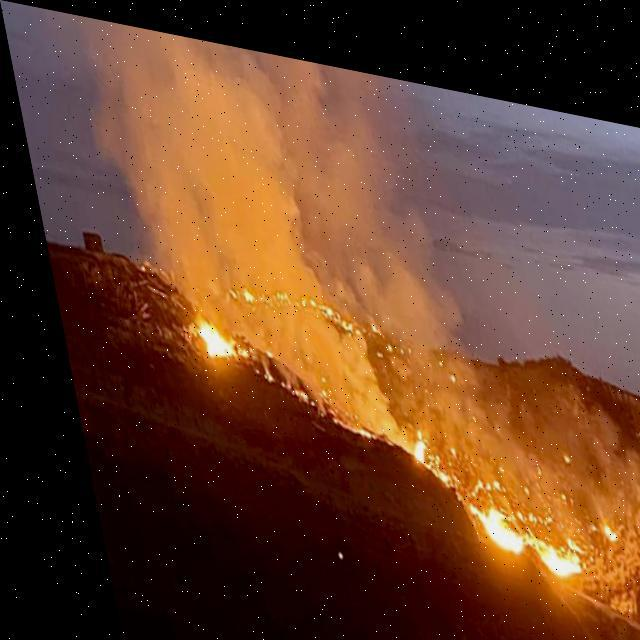Fire: (449, 458, 572, 564), (182, 313, 240, 362), (290, 284, 354, 326), (397, 422, 437, 472), (323, 406, 358, 428), (263, 278, 284, 298), (231, 276, 245, 298), (625, 472, 639, 494), (586, 500, 601, 520), (246, 358, 262, 375), (282, 378, 296, 394), (358, 306, 372, 320), (218, 278, 227, 292), (548, 433, 555, 443)
